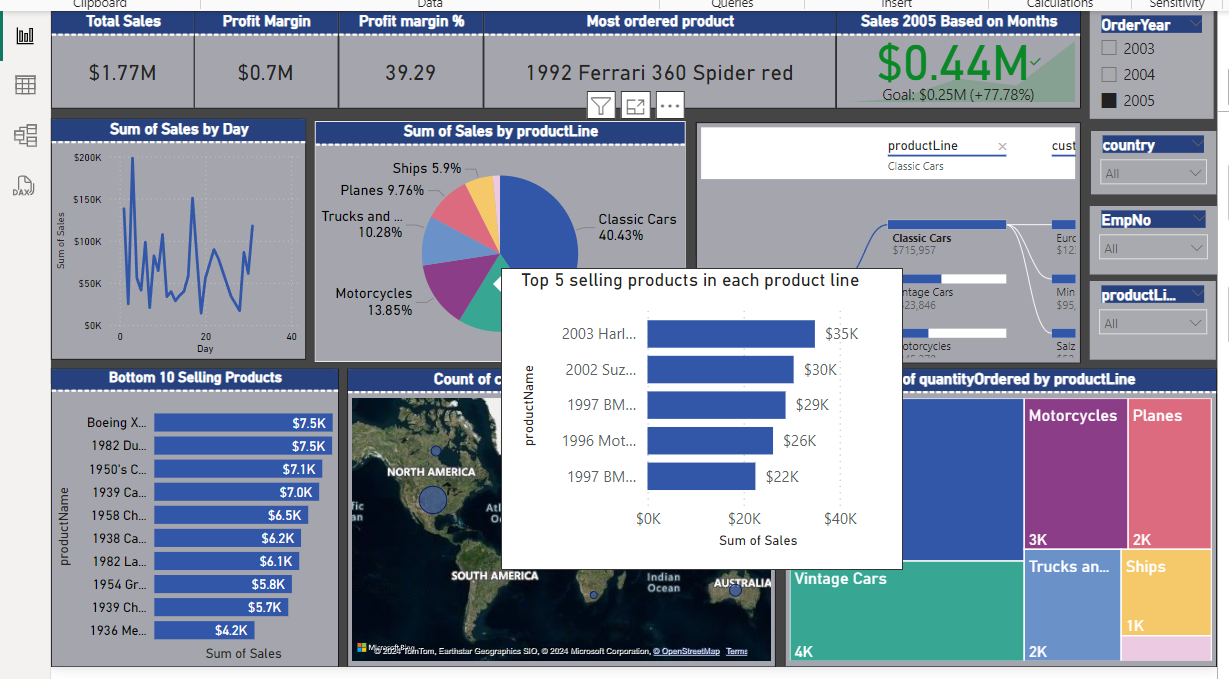

Layout of this report page (visuals, bound fields, positions):
{"tool":"powerbi","page":{"name":"Page 1","canvas":[1280,720],"ordinal":0},"visuals":[{"type":"card","title":"Profit Margin","fields":{"Values":["order details.total_profit"]},"box":[156.4,0,159.2,107],"z":0},{"type":"card","title":"Most ordered product","fields":{"Values":["order details.Most_ordered_product"]},"box":[474.8,0,387,107],"z":1000},{"type":"barChart","title":"Bottom 10 Selling Products","fields":{"Category":["products.productName"],"Y":["Sum(order details.Sales)"]},"box":[0,392.5,315.6,328],"z":2000},{"type":"pieChart","fields":{"Category":["productlines.productLine"],"Y":["Sum(order details.Sales)"]},"box":[289.5,120.8,407.5,264.8],"z":3000},{"type":"card","title":"Total Sales","fields":{"Values":["customers.total_sales"]},"box":[0,0,157.8,107],"z":4000},{"type":"slicer","fields":{"Values":["orders.OrderYear"]},"box":[1140.1,0,136.3,118.2],"z":5000},{"type":"map","fields":{"Category":["customers.country"],"Size":["CountNonNull(customers.customerNumber)"]},"box":[325.2,392.5,470.7,328],"z":6000},{"type":"kpi","title":"Sales 2005 Based on Months","fields":{"Indicator":["order details.sales_2005"],"Goal":["order details.sales_2004"],"TrendLine":["orders.OrderMonth"]},"box":[861.8,0,269,107],"z":7000},{"type":"treemap","fields":{"Group":["productlines.productLine"],"Values":["Sum(order details.quantityOrdered)"]},"box":[805.5,392.5,474.8,328],"z":8000},{"type":"card","title":"Profit margin %","fields":{"Values":["order details.profit_margin_%"]},"box":[315.6,0,159.2,107],"z":9000},{"type":"slicer","fields":{"Values":["employees.employeeNumber"]},"box":[1140.3,214.1,140,75.5],"z":10000},{"type":"slicer","fields":{"Values":["offices.country"]},"box":[1141.7,131.7,137.2,70],"z":11000},{"type":"slicer","fields":{"Values":["productlines.productLine"]},"box":[1140.3,296.4,138.6,86.4],"z":12000},{"type":"lineChart","fields":{"Category":["orders.orderDate.Variation.Date Hierarchy.Year","orders.orderDate.Variation.Date Hierarchy.Quarter","orders.orderDate.Variation.Date Hierarchy.Month","orders.orderDate.Variation.Date Hierarchy.Day"],"Y":["Sum(order details.Sales)"]},"box":[0,118,279.9,264.8],"z":13000},{"type":"decompositionTreeVisual","fields":{"Analyze":["Sum(order details.Sales)"],"ExplainBy":["productlines.productLine","customers.customerName","products.productName"]},"box":[708.1,122.1,422.6,264.8],"z":14000}]}

Visuals, with their boxes on the page's 1280x720 design canvas (x1, y1, x2, y2). These are canvas units, not pixel positions in the 1229x679 screenshot, which may show the page scaled, cropped or inside an application window:
"Profit Margin" card: bbox=[156, 0, 316, 107]
"Most ordered product" card: bbox=[475, 0, 862, 107]
"Bottom 10 Selling Products" barChart: bbox=[0, 392, 316, 720]
pieChart - productlines.productLine x Sum(order details.Sales): bbox=[290, 121, 697, 386]
"Total Sales" card: bbox=[0, 0, 158, 107]
slicer - orders.OrderYear: bbox=[1140, 0, 1276, 118]
map - customers.country x CountNonNull(customers.customerNumber): bbox=[325, 392, 796, 720]
"Sales 2005 Based on Months" kpi: bbox=[862, 0, 1131, 107]
treemap - productlines.productLine x Sum(order details.quantityOrdered): bbox=[806, 392, 1280, 720]
"Profit margin %" card: bbox=[316, 0, 475, 107]
slicer - employees.employeeNumber: bbox=[1140, 214, 1280, 290]
slicer - offices.country: bbox=[1142, 132, 1279, 202]
slicer - productlines.productLine: bbox=[1140, 296, 1279, 383]
lineChart - orders.orderDate.Variation.Date Hierarchy.Year x orders.orderDate.Variation.Date Hierarchy.Quarter: bbox=[0, 118, 280, 383]
decompositionTreeVisual - Sum(order details.Sales) x productlines.productLine: bbox=[708, 122, 1131, 387]
